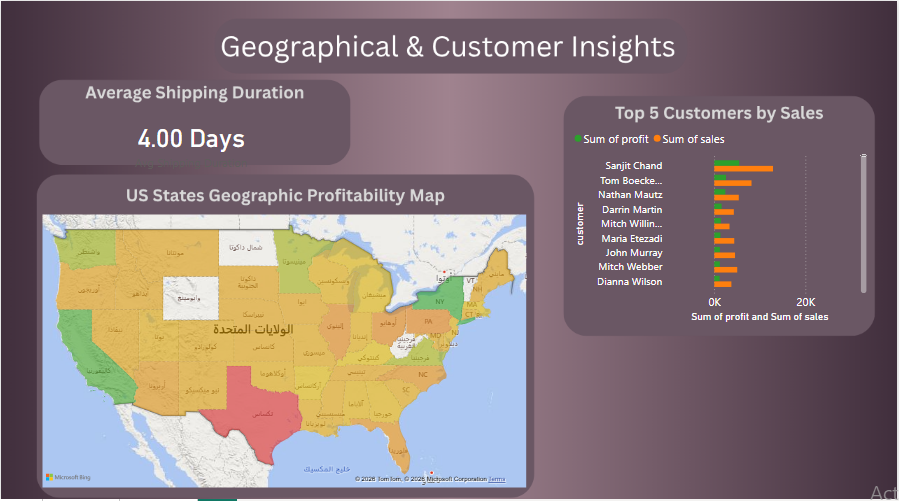

The dashboard page shown, as its layout file describes it:
{"tool":"powerbi","page":{"name":"page 3","canvas":[1280,720],"ordinal":2},"visuals":[{"type":"card","fields":{"Values":["superstore_2019_cleaned.Avg Shipping Duration"]},"box":[121.9,96.4,300.5,214],"z":0},{"type":"clusteredBarChart","fields":{"Category":["superstore_2019_cleaned.customer"],"Y":["Sum(superstore_2019_cleaned.profit)","Sum(superstore_2019_cleaned.sales)"]},"box":[812.9,174.3,428.6,290],"z":1000},{"type":"filledMap","fields":{"Category":["superstore_2019_cleaned.state"]},"box":[54.3,300,701.4,400],"z":1001}]}

Visuals, with their boxes in screenshot pixels (x1, y1, x2, y2), scaled from the page's 1280x720 canvas onto the 899x501 screenshot:
card - superstore_2019_cleaned.Avg Shipping Duration: region(86, 67, 297, 216)
clusteredBarChart - superstore_2019_cleaned.customer x Sum(superstore_2019_cleaned.profit): region(571, 121, 872, 323)
filledMap - superstore_2019_cleaned.state: region(38, 209, 531, 487)
